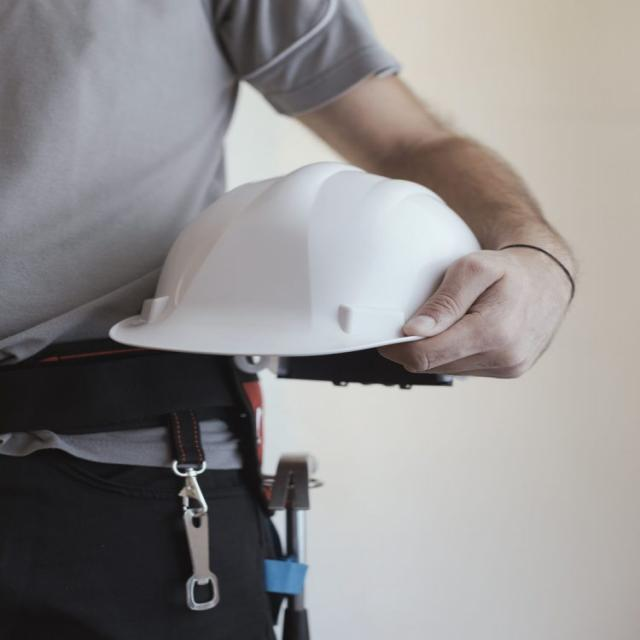Safety-Helmet: (102, 164, 494, 363)
